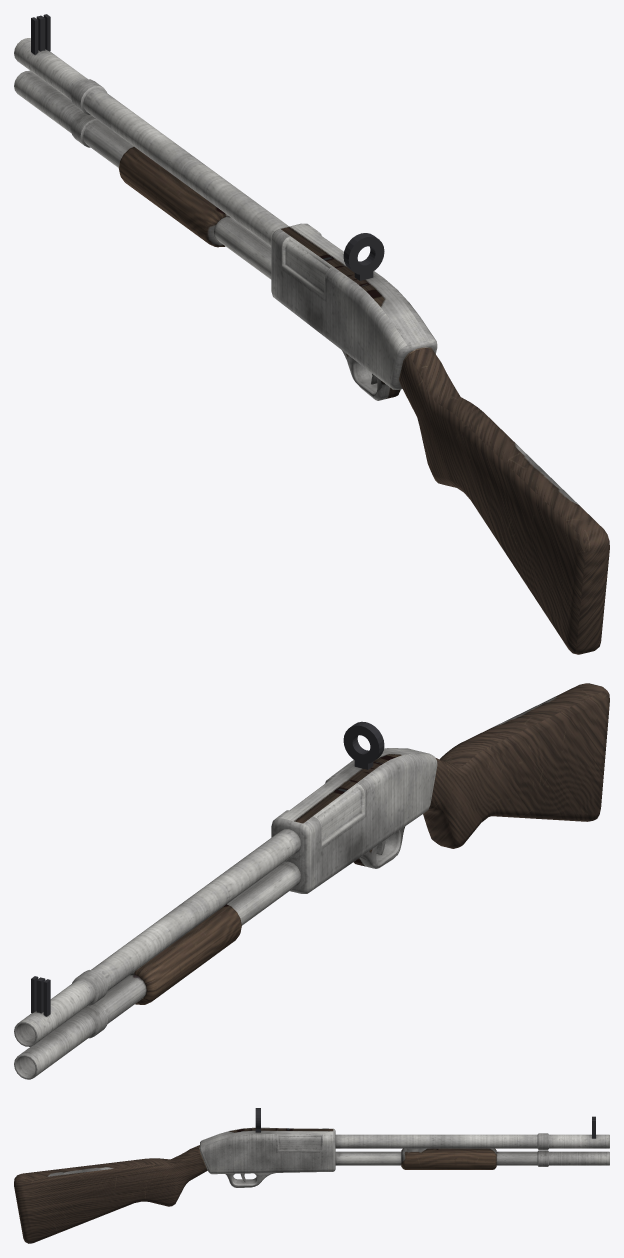
File: pump_shotgun.glb
The picture shows the model from 3 angles, top to bottom: view 1: azimuth 30°, elevation 25°; view 2: azimuth 150°, elevation 25°; view 3: azimuth 270°, elevation 25°; orthographic projection. The views are drawn at different scales.
Visible parts, largest first — view 1: shotgun, shotgunpomp, rear_ring; view 2: shotgun, shotgunpomp, rear_ring; view 3: shotgun, shotgunpomp.
Boxes of the visible parts, <box> form: shotgun: <box>14,38,609,654</box>; shotgunpomp: <box>118,147,229,247</box>; rear_ring: <box>343,233,384,274</box>; shotgun: <box>14,683,609,1079</box>; shotgunpomp: <box>131,904,241,1004</box>; rear_ring: <box>343,721,384,763</box>; shotgun: <box>14,1127,609,1243</box>; shotgunpomp: <box>401,1148,496,1169</box>.
Size of the model in its own units: 0.0358 by 0.2187 by 0.8877.
2 materials, 1 textured.
